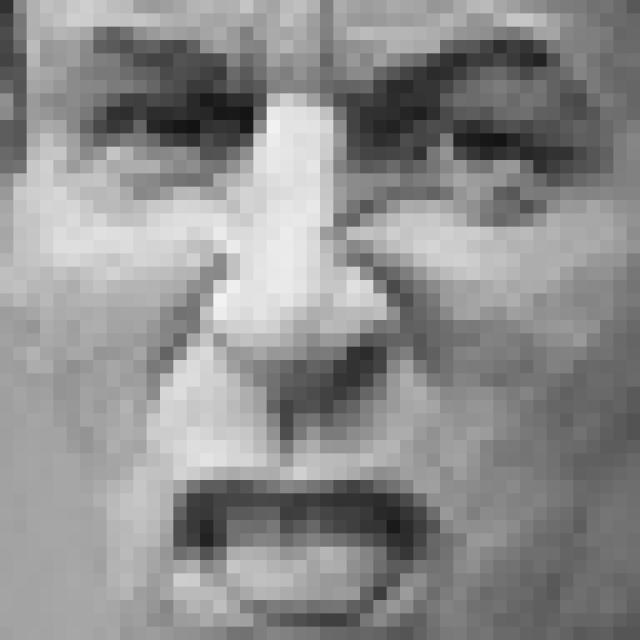disgust: (80, 18, 602, 633)
